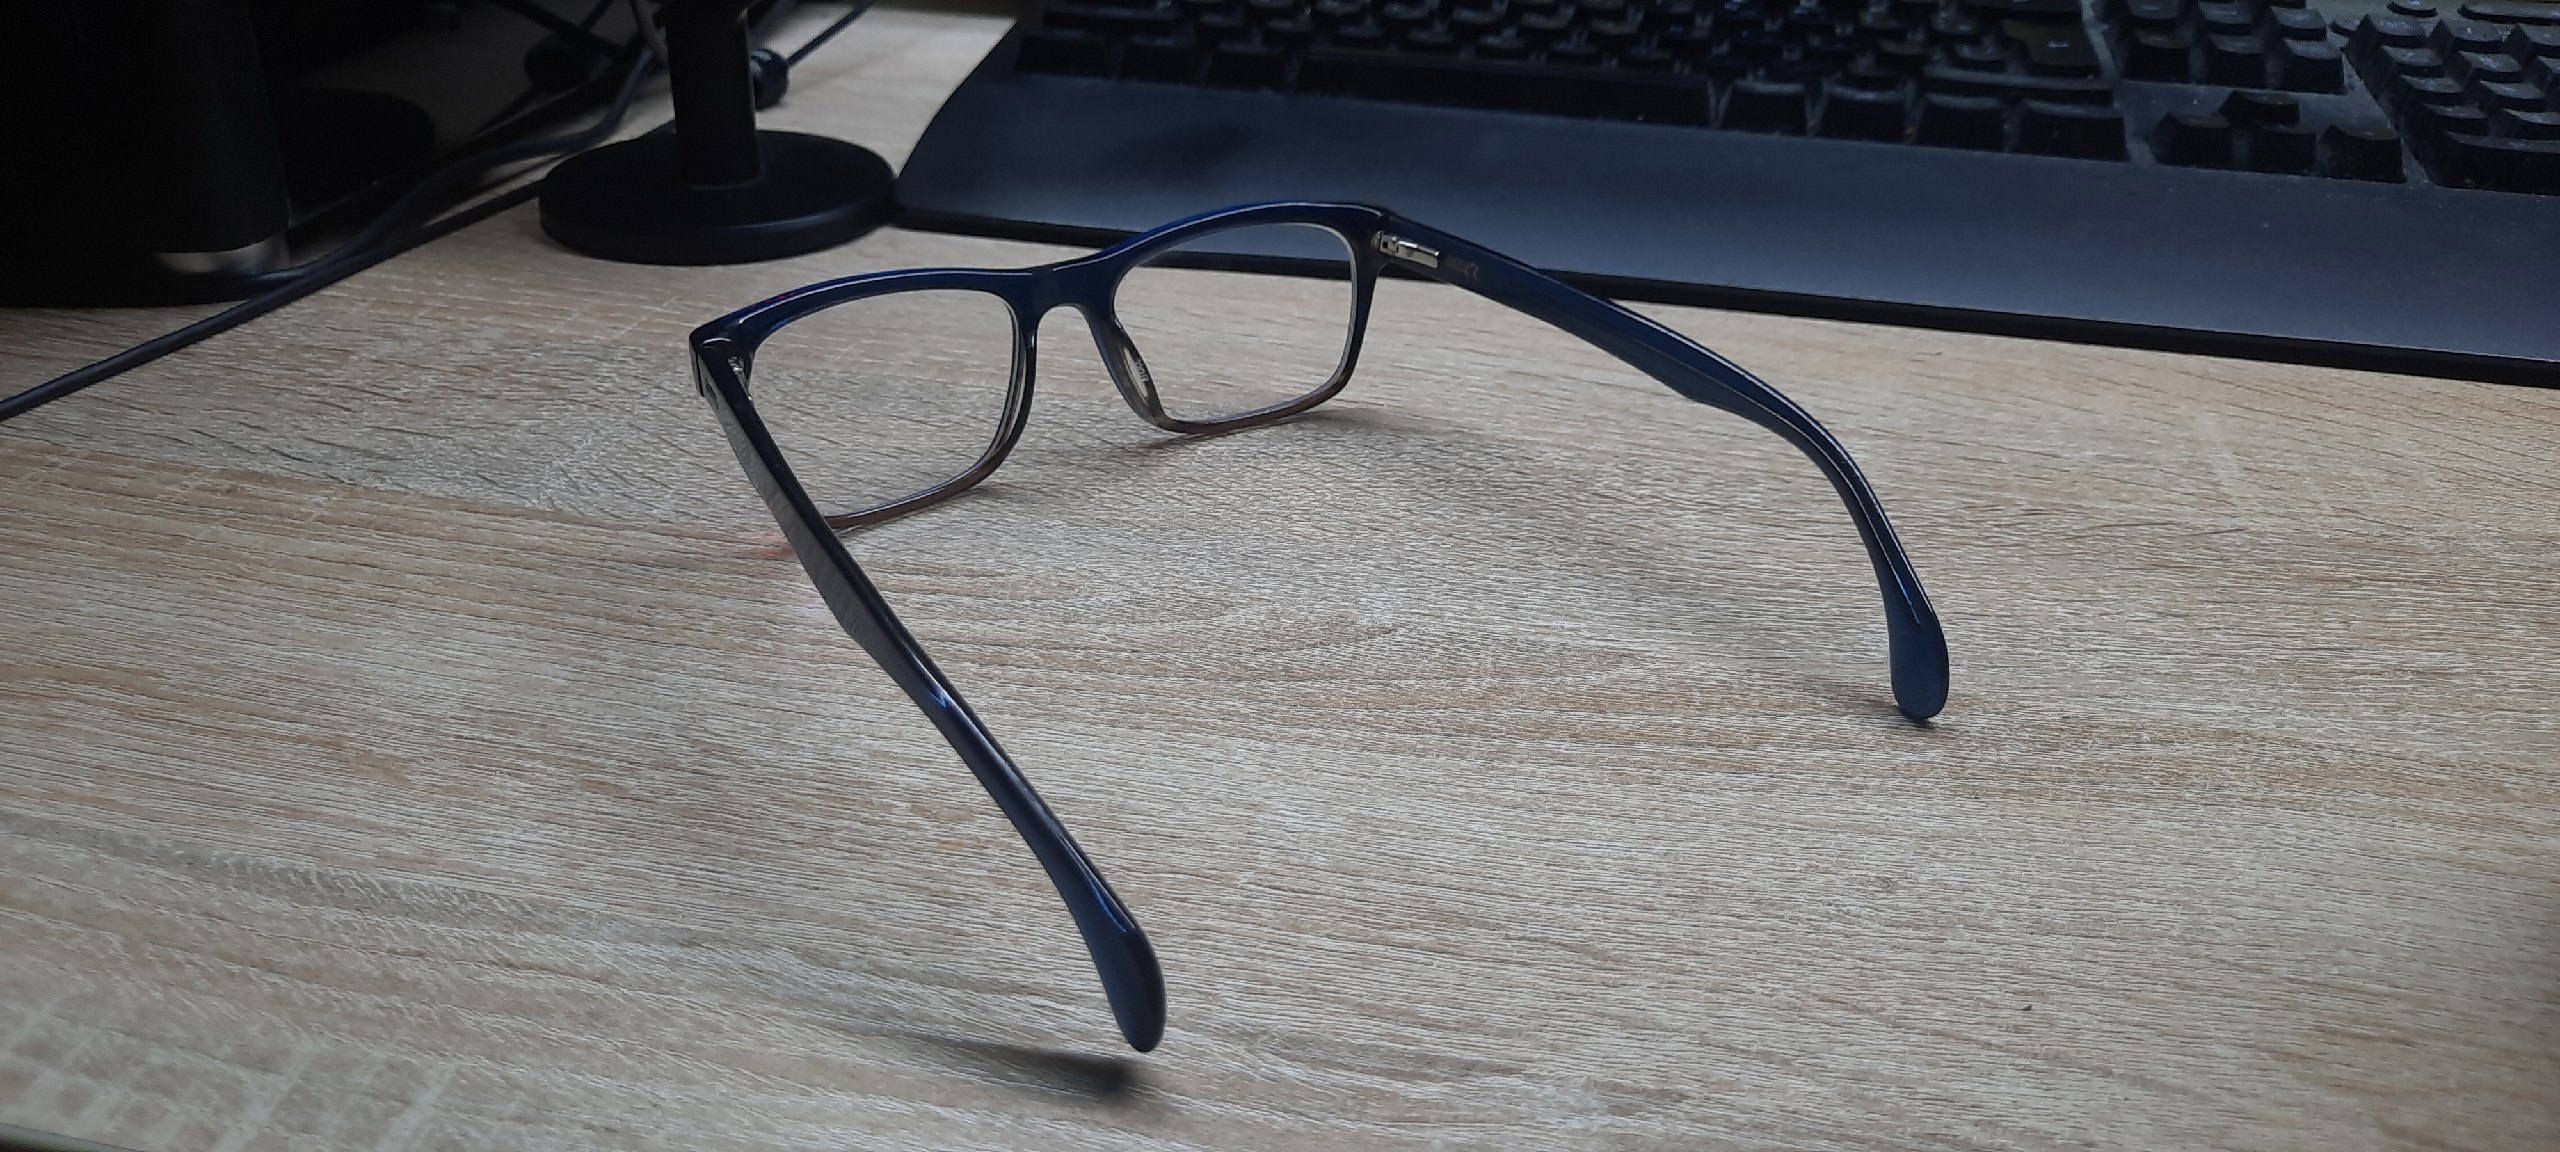glasses: (691, 204, 1948, 1049)
